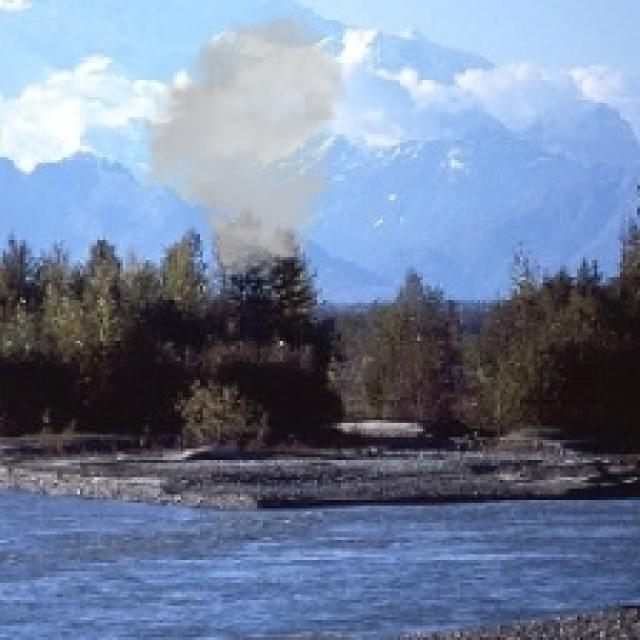Smoke: (134, 8, 349, 280)
